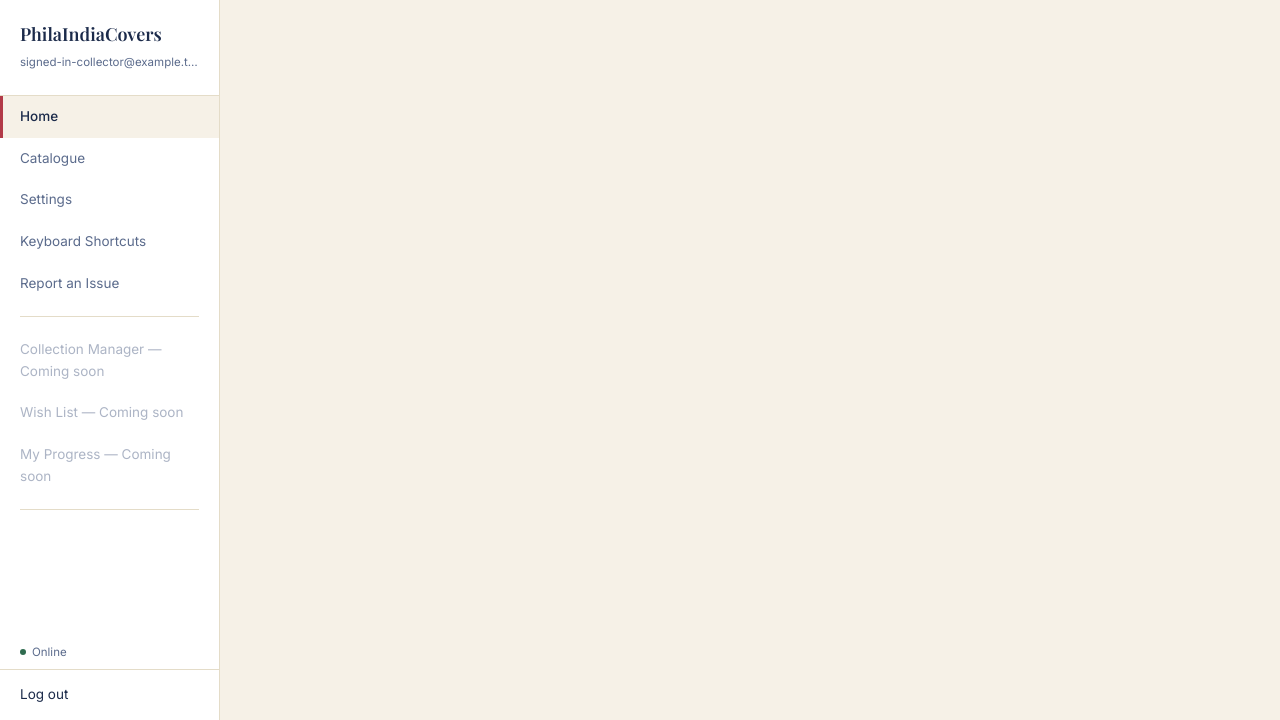
Test: Sidebar › Escape closes the logout-confirm dialog without signing out
The image size is (1280, 720).
Click the button "Log out" at (110,695), box [0, 669, 219, 719]
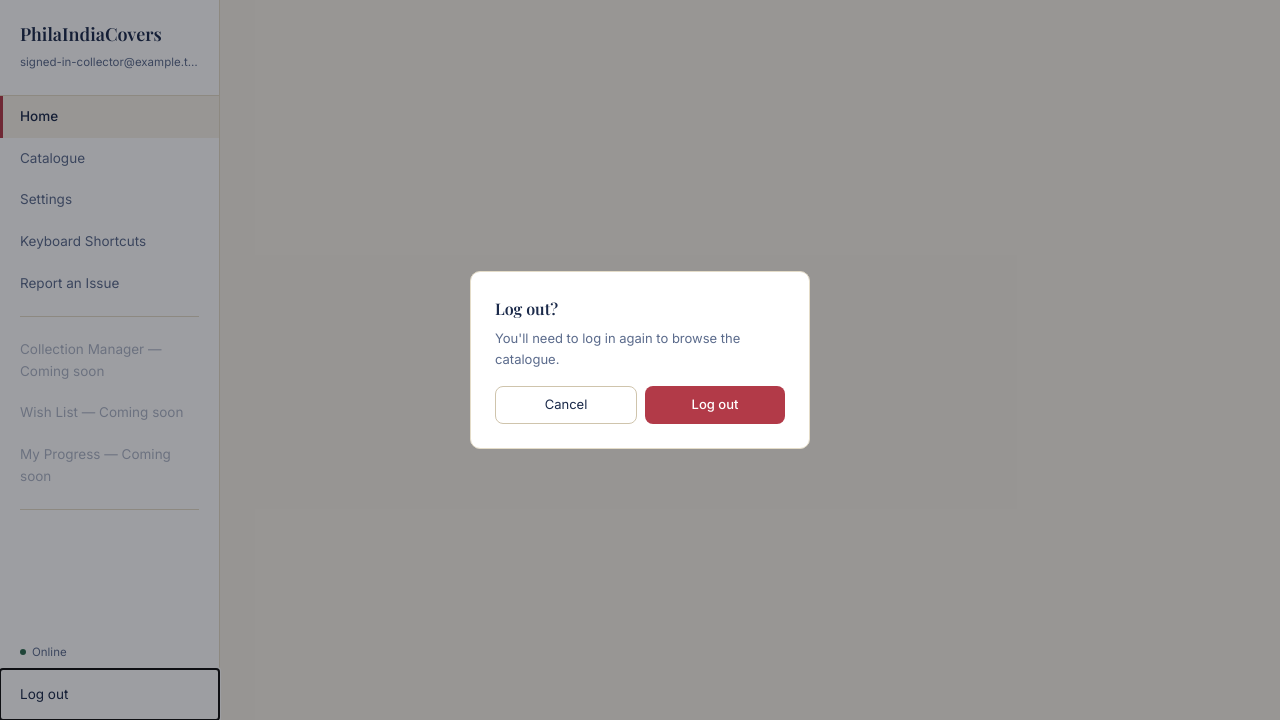
expect the dialog is shown: met, box [470, 271, 810, 449]
Press Escape
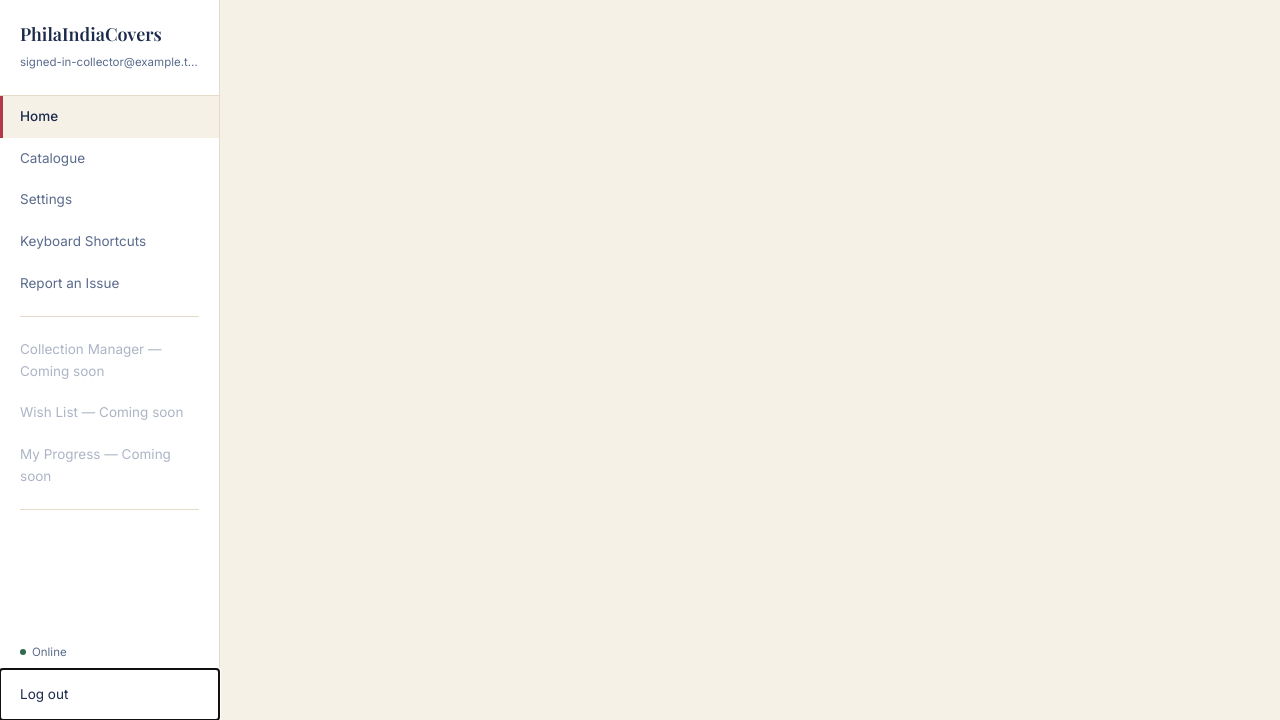
expect the dialog is gone: met
